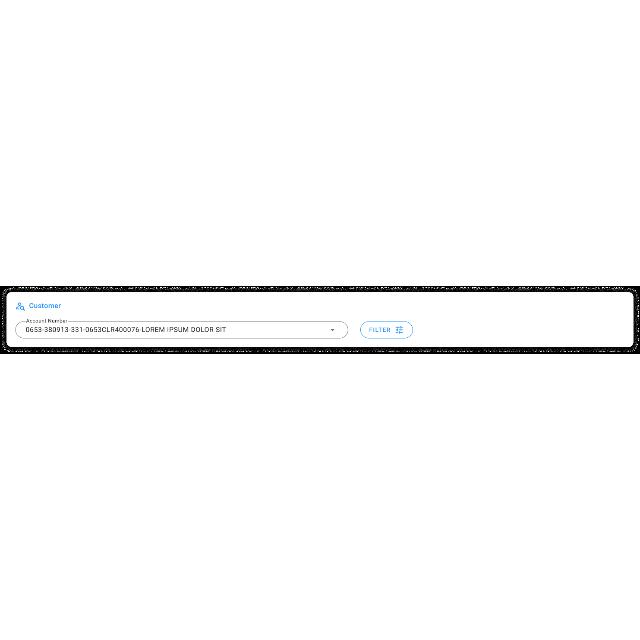QLabel: (366, 326, 392, 336), (28, 304, 62, 310)
VBtn: (360, 321, 414, 339)
VCard: (6, 292, 634, 350)
VCombobox: (16, 318, 348, 339)
VIcon: (12, 301, 26, 313), (394, 325, 404, 335)
